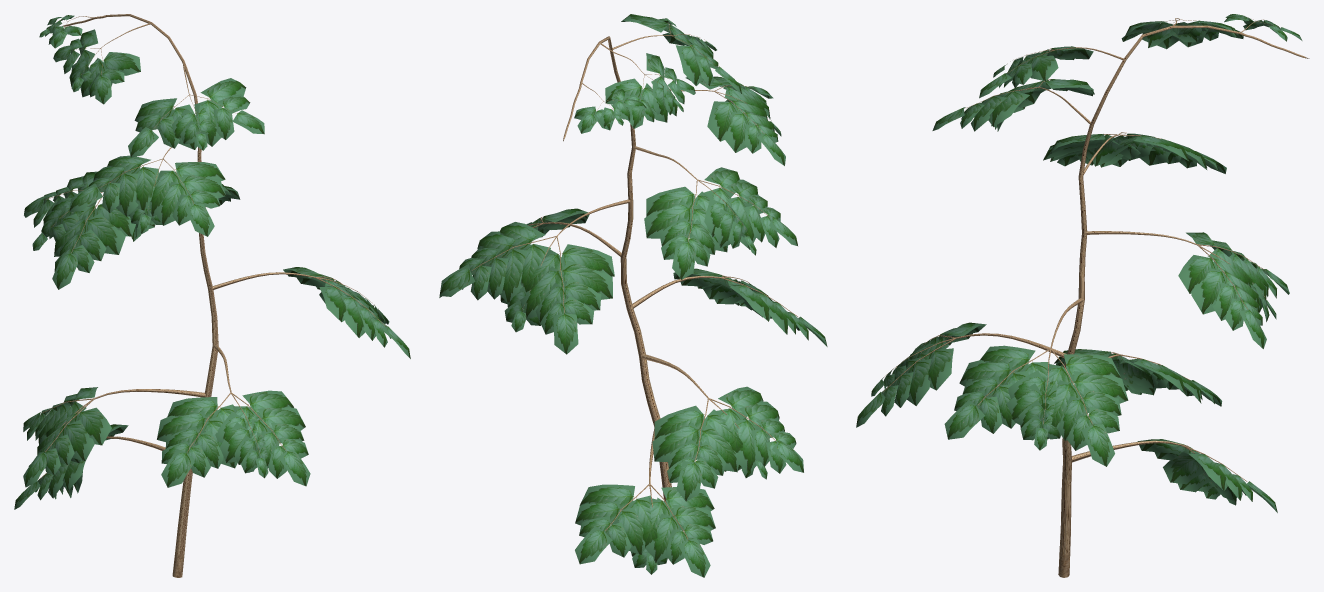
File: planta.obj
3 views of the same model, side by side, from view 1: azimuth 30°, elevation 25°; view 2: azimuth 150°, elevation 25°; view 3: azimuth 270°, elevation 25° (orthographic). The views are drawn at different scales.
Parts seen in each view (by area): view 1: Object_nozen_leaf2_jpg, Object_default_grey_jpg; view 2: Object_nozen_leaf2_jpg, Object_default_grey_jpg; view 3: Object_nozen_leaf2_jpg, Object_default_grey_jpg.
Part boxes in pixels (<box>): Object_nozen_leaf2_jpg: <box>14,15,410,509</box>; Object_default_grey_jpg: <box>39,14,386,577</box>; Object_nozen_leaf2_jpg: <box>439,14,827,577</box>; Object_default_grey_jpg: <box>472,23,799,538</box>; Object_nozen_leaf2_jpg: <box>856,14,1302,512</box>; Object_default_grey_jpg: <box>883,16,1309,577</box>.
Bounding box in the file's own units: 1.76 × 2.5 × 1.83.
Materials: 2 (2 with a texture image).
